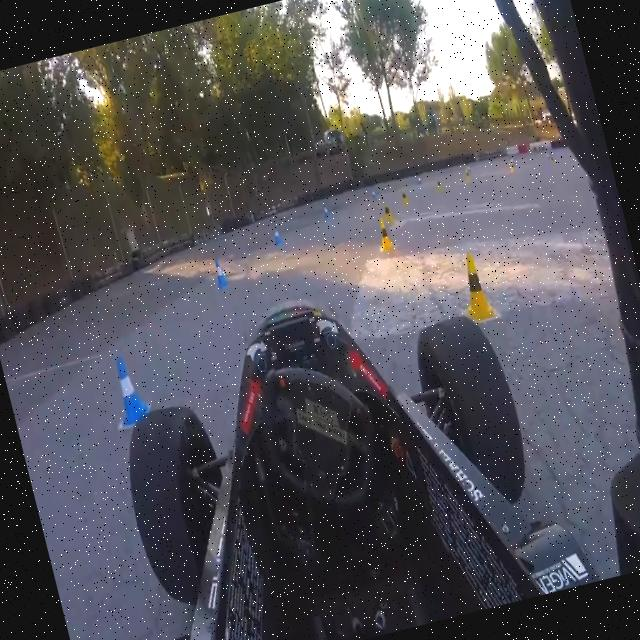blue_cone: (96, 332, 158, 433), (202, 244, 240, 294), (261, 209, 293, 260), (317, 198, 338, 228)
yellow_cone: (457, 245, 500, 317), (370, 210, 400, 257)
